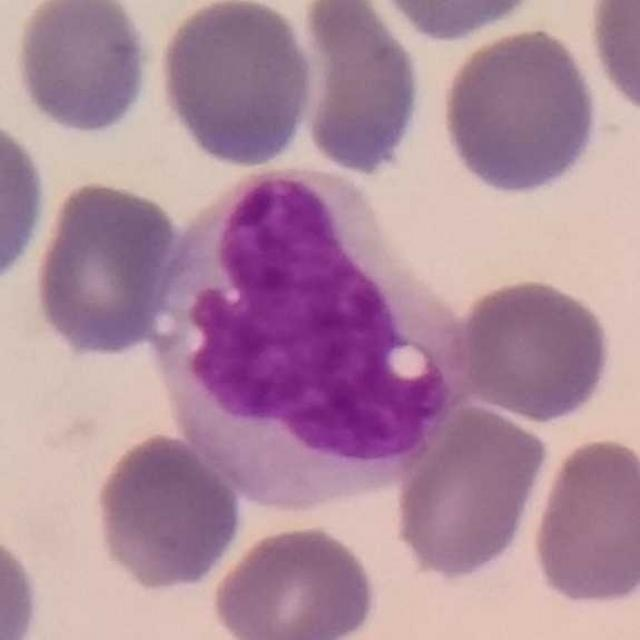mono: (144, 162, 489, 520)
